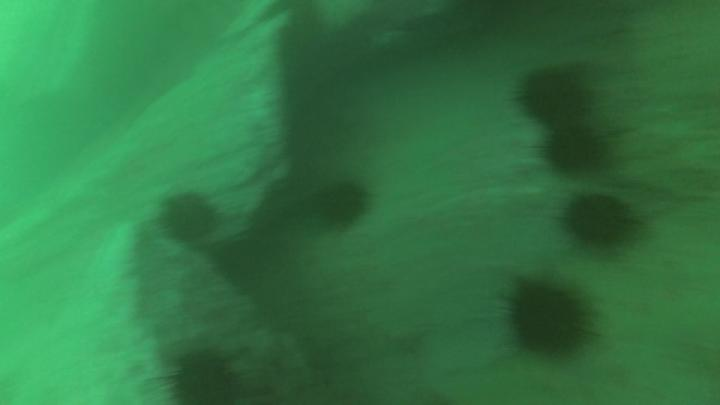echinus: (512, 286, 584, 351), (565, 197, 632, 245), (525, 72, 583, 122), (171, 361, 236, 405), (312, 184, 367, 229), (550, 130, 602, 171), (170, 201, 217, 245)
